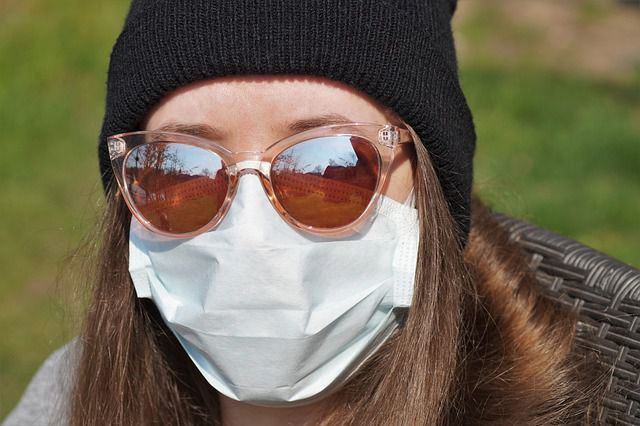with_mask: (113, 91, 427, 407)
